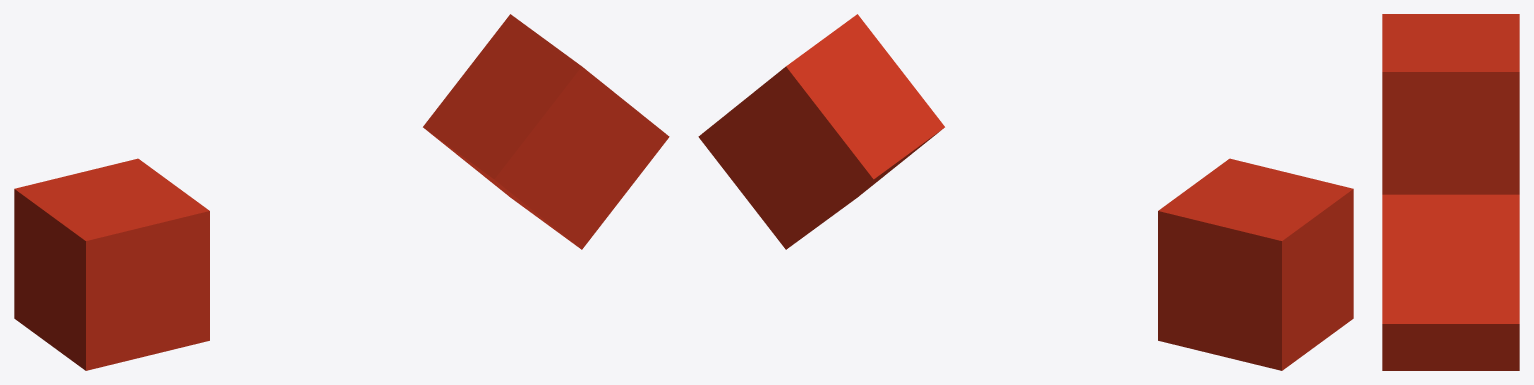
The model's file is instanced_geometry.fbx.
The picture shows the model from 3 angles, left to right: view 1: azimuth 30°, elevation 25°; view 2: azimuth 150°, elevation 25°; view 3: azimuth 270°, elevation 25°; orthographic projection. The views are drawn at different scales.
Parts seen in each view (by area): view 1: Left, Right; view 2: Left, Right; view 3: Left, Right.
Part boxes in pixels (box(x1,y1,x2,y2)): Left: box(14, 158, 209, 370); Right: box(423, 14, 669, 249); Left: box(1158, 158, 1353, 370); Right: box(698, 14, 944, 249); Left: box(1382, 14, 1519, 194); Right: box(1382, 194, 1519, 370).
Bounding box in the file's own units: 471 × 141 × 100.
